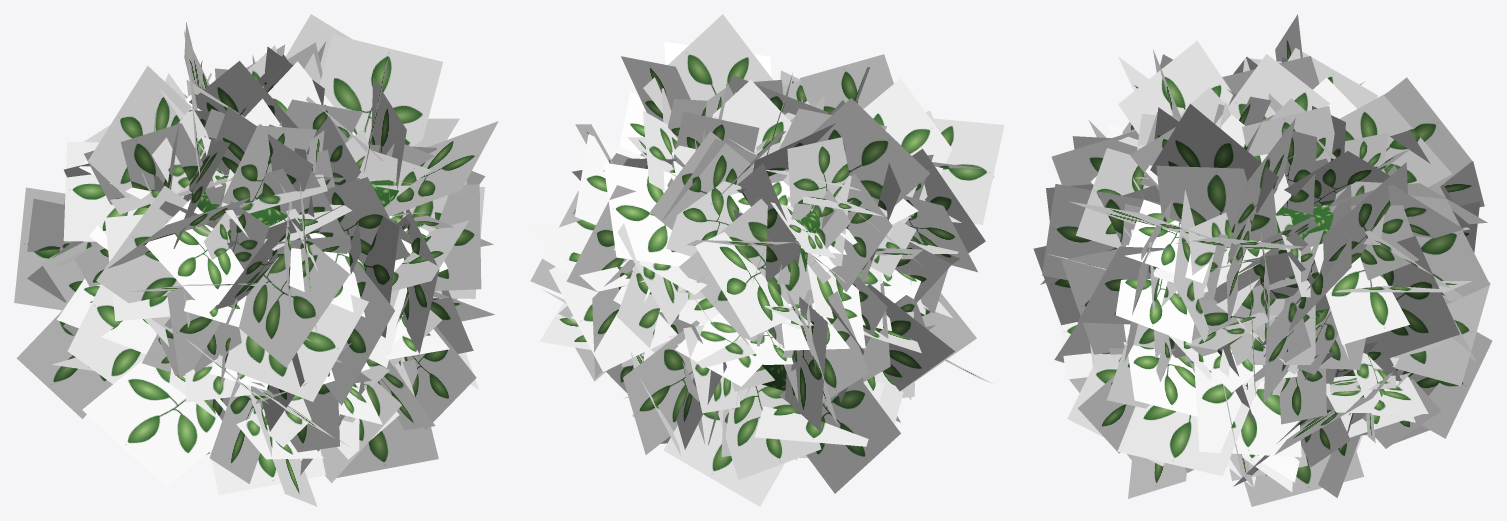
File: bush rush.fbx
The picture shows the model from 3 angles, left to right: view 1: azimuth 30°, elevation 25°; view 2: azimuth 150°, elevation 25°; view 3: azimuth 270°, elevation 25°; orthographic projection. The views are drawn at different scales.
Visible parts, largest first — view 1: bush leaves.001, Cube; view 2: bush leaves.001, Cube; view 3: bush leaves.001, Cube.
Part boxes in pixels (x1,y1,x2,y2): bush leaves.001: [14, 14, 498, 506]; Cube: [197, 180, 398, 241]; bush leaves.001: [528, 14, 1004, 506]; Cube: [762, 211, 820, 390]; bush leaves.001: [1033, 14, 1492, 506]; Cube: [1276, 204, 1333, 319].
Bounding box in the file's own units: 440 × 450 × 449.
2 materials, 2 textured.
